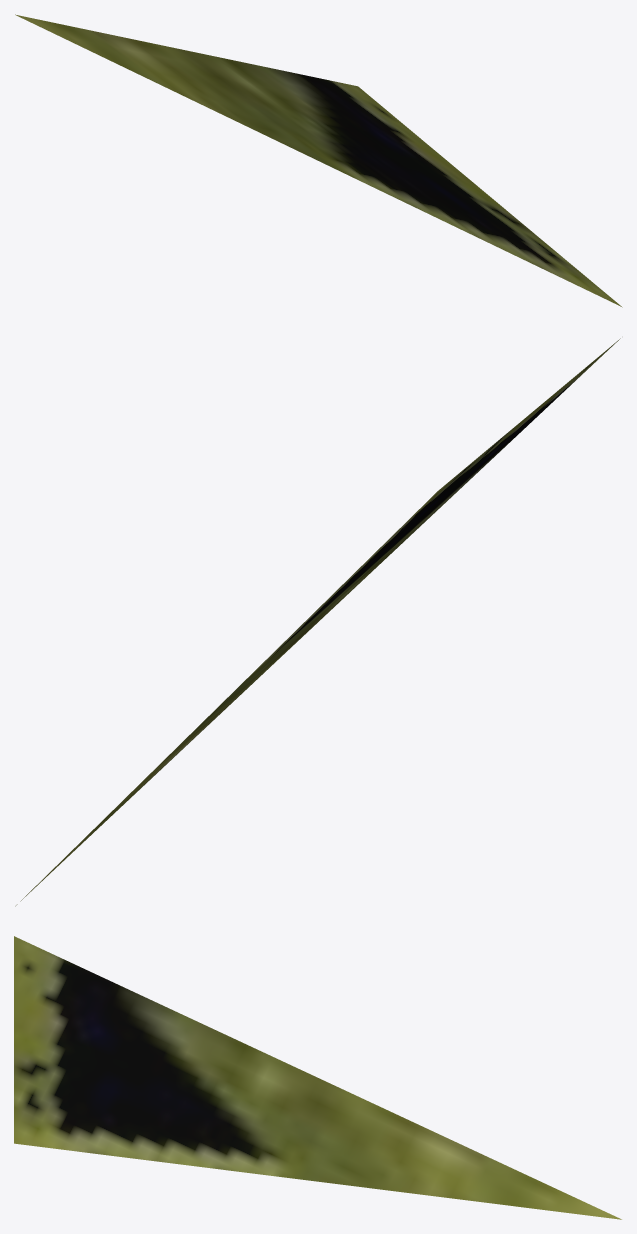
The picture shows the model from 3 angles, top to bottom: view 1: azimuth 30°, elevation 25°; view 2: azimuth 150°, elevation 25°; view 3: azimuth 270°, elevation 25°; orthographic projection. The views are drawn at different scales.
Bounding box in the file's own units: 0.3448 × 0.5455 × 1.37.
1 material, 1 textured.
